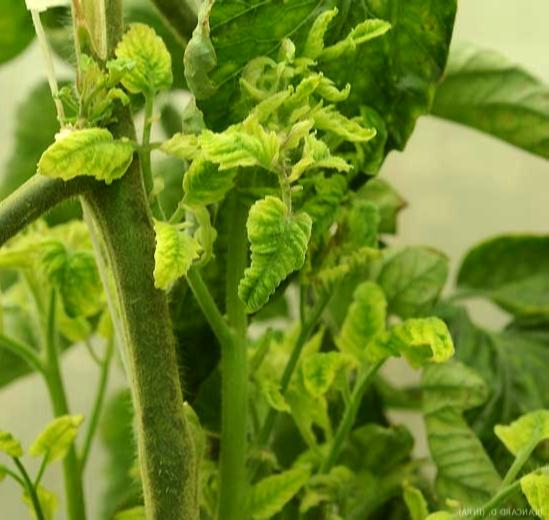Tomato leaf yellow virus: (224, 181, 313, 318), (142, 196, 206, 319), (36, 117, 135, 182), (166, 127, 273, 185)
